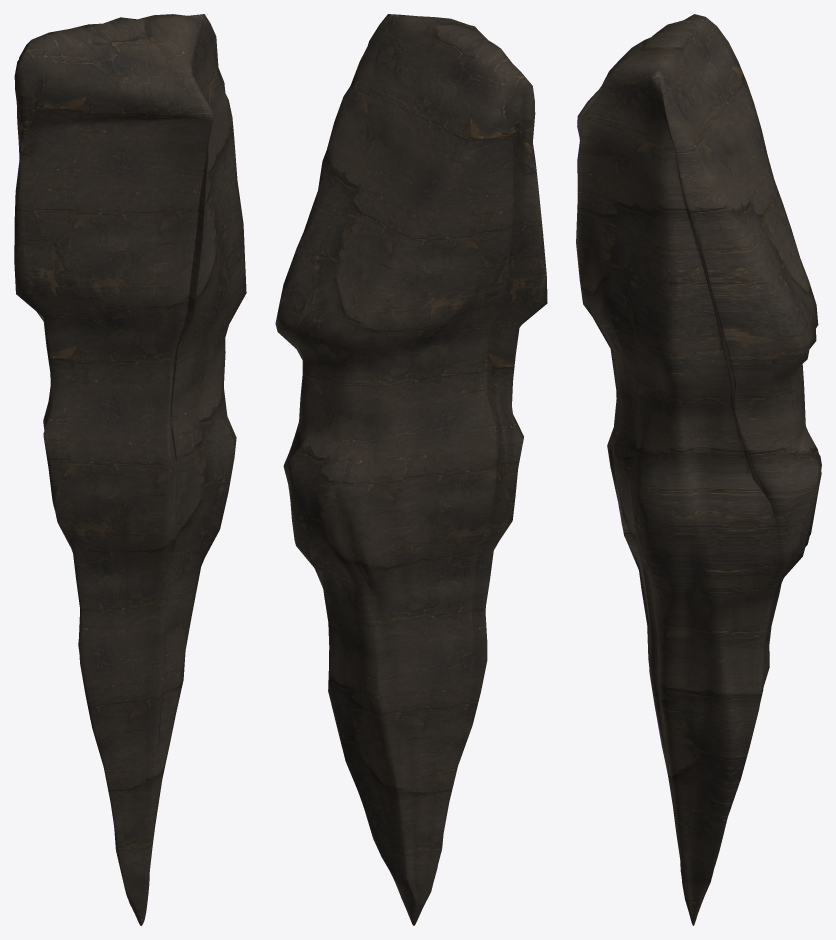
Rendered from cliff_fang_a_lod0.gltf.
3 renders of one model, left to right at view 1: azimuth 30°, elevation 25°; view 2: azimuth 150°, elevation 25°; view 3: azimuth 270°, elevation 25°, orthographic. The views are drawn at different scales.
Parts seen in each view (by area): view 1: cliff_fang_a_LOD0; view 2: cliff_fang_a_LOD0; view 3: cliff_fang_a_LOD0.
Boxes of the visible parts, bbox=[...] form: cliff_fang_a_LOD0: bbox=[14, 14, 246, 925]; cliff_fang_a_LOD0: bbox=[275, 14, 547, 925]; cliff_fang_a_LOD0: bbox=[576, 14, 821, 925].
Size of the model in its own units: 7.85 by 30 by 7.65.
Materials: 1 (1 with a texture image).
